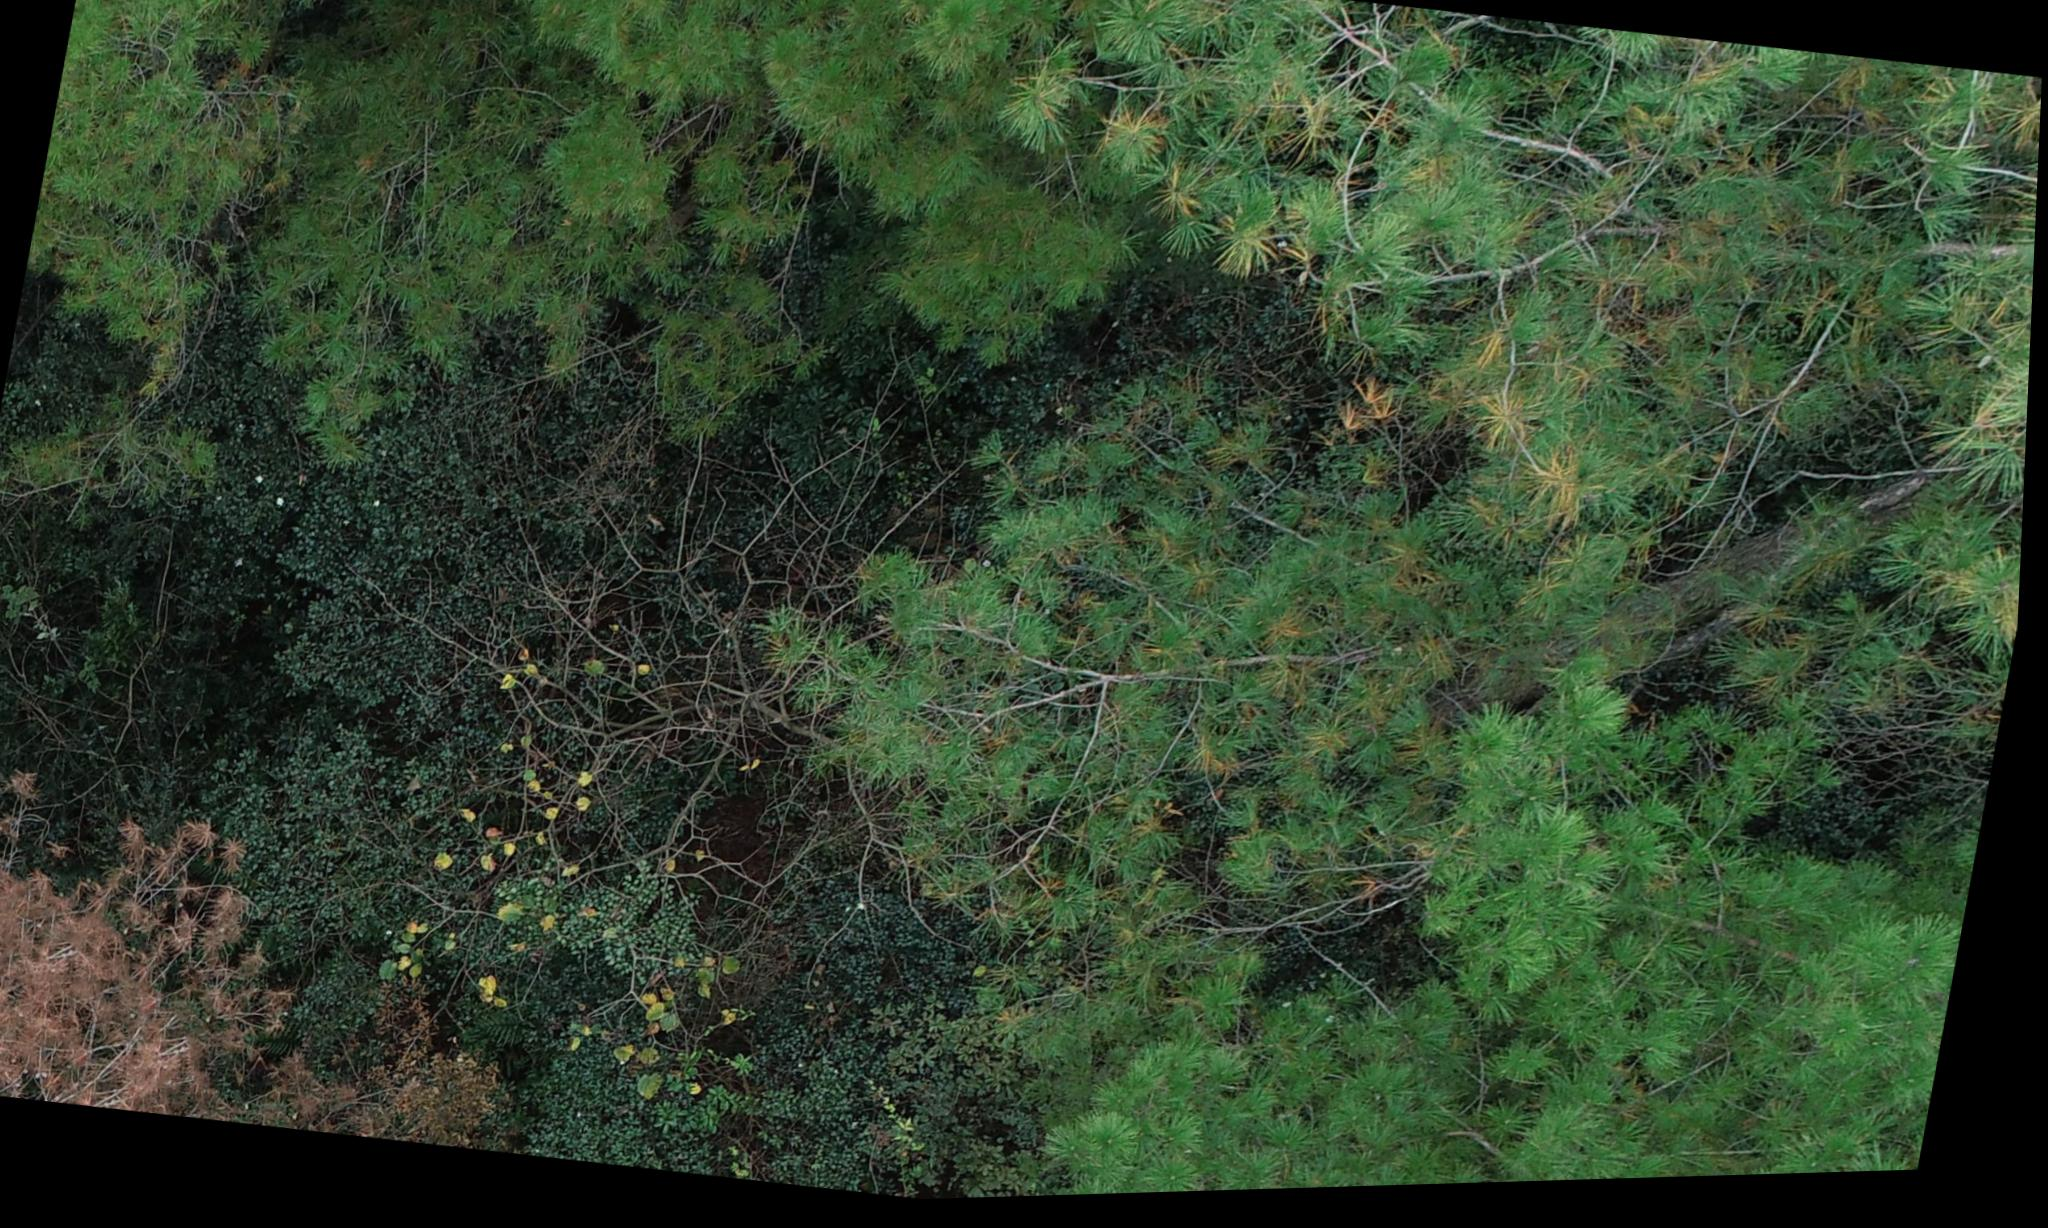heavy: (0, 750, 301, 1118)
light: (1112, 12, 2047, 528), (830, 417, 1583, 934)
